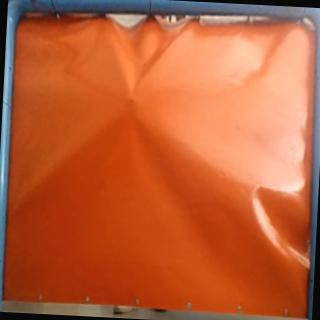Hit-hRxx: (124, 90, 140, 110)
